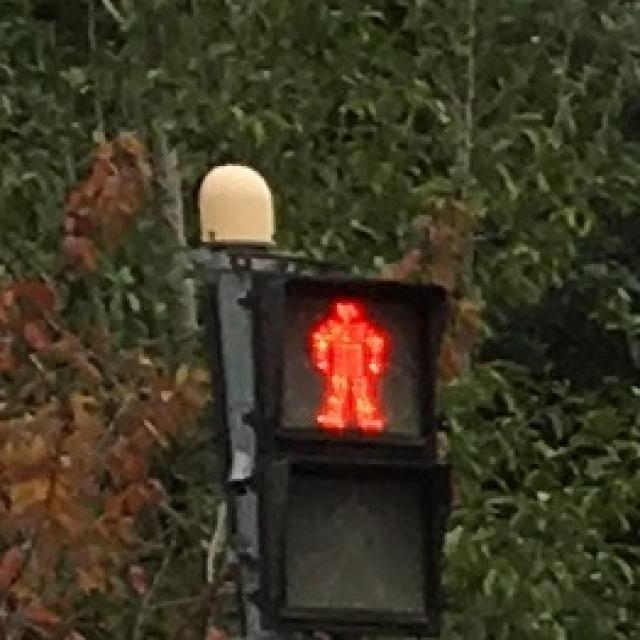red-crossing: (286, 283, 410, 440)
